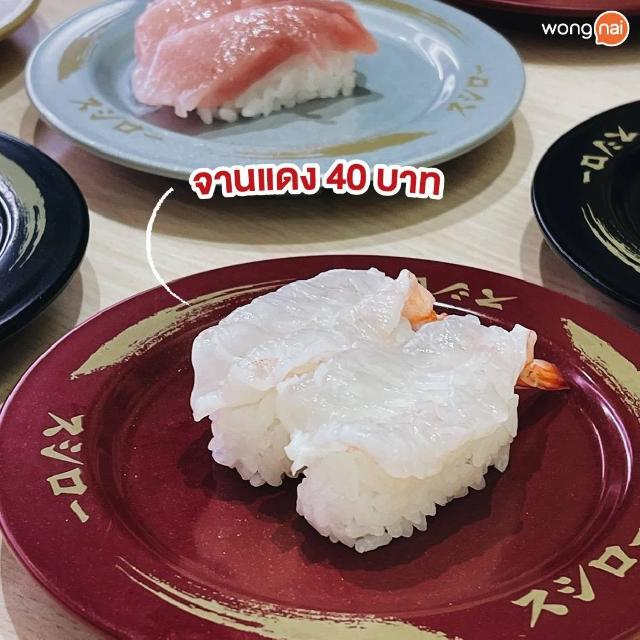janback: (542, 97, 640, 297), (0, 120, 89, 323)
janred: (13, 216, 640, 594)
janwhite: (70, 18, 489, 171)
